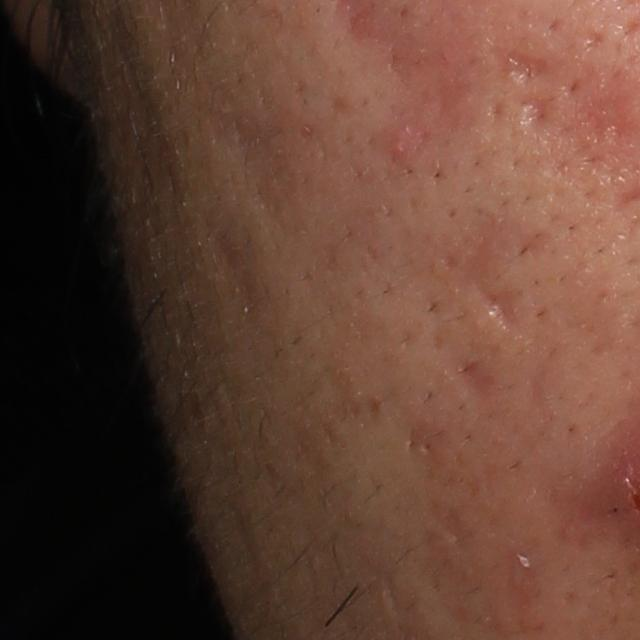atrophic_scar: (429, 208, 552, 341), (200, 217, 267, 338), (438, 356, 507, 418), (500, 39, 551, 92)
